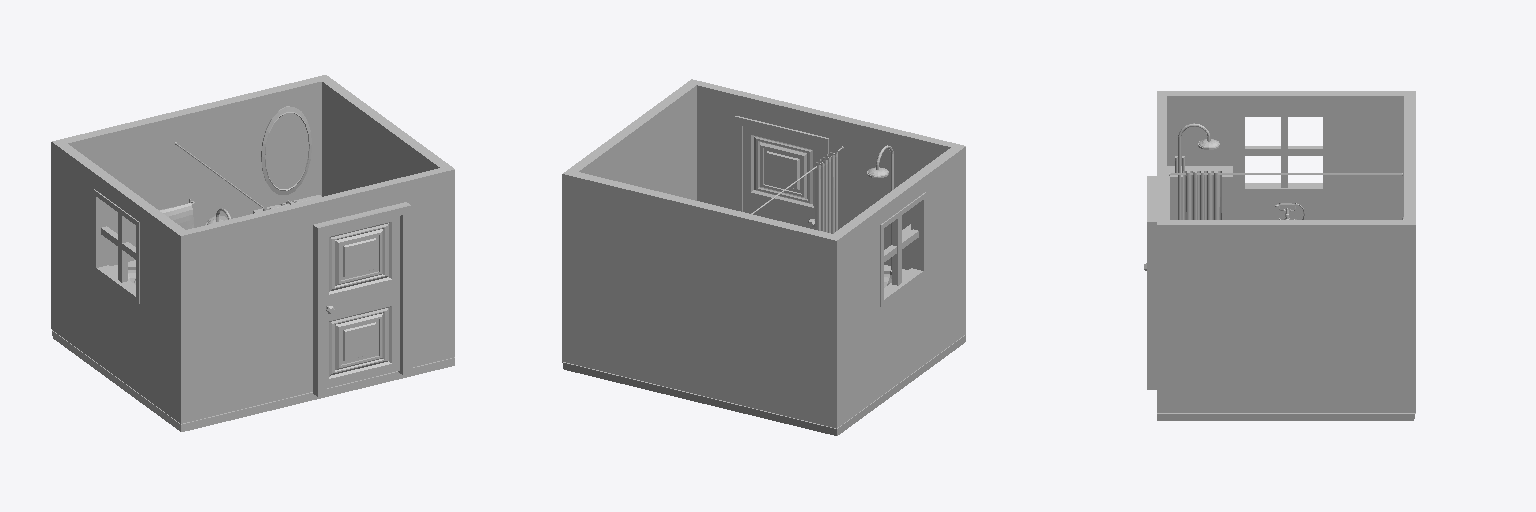
Rendered from Banheiro_J2_Completo.obj.
3 views of the same model, side by side, from view 1: azimuth 30°, elevation 25°; view 2: azimuth 150°, elevation 25°; view 3: azimuth 270°, elevation 25° (orthographic).
Parts seen in each view (by area): view 1: pasted__Parede group4 parede_banheiro, porta_banheiro pCube84, pCube246 porta_banheiro, espelho, chao_banheiro pasted__Parede group4, janela_banheiro pCube35, janela_banheiro pCube42, pPlane7 toalha; view 2: pasted__Parede group4 parede_banheiro, porta_banheiro pCube84, chao_banheiro pasted__Parede group4, janela_banheiro pCube35, pCube227 cortina, pCube246 porta_banheiro, janela_banheiro pCube42; view 3: pasted__Parede group4 parede_banheiro, pCube246 porta_banheiro, janela_banheiro pCube35, chao_banheiro pasted__Parede group4, pCube227 cortina, pCube41 janela_banheiro, chuveiro.
Boxes of the visible parts, box(x1,y1,x2,y2) form: pasted__Parede group4 parede_banheiro: box(51, 75, 454, 423); porta_banheiro pCube84: box(326, 216, 399, 387); pCube246 porta_banheiro: box(313, 202, 410, 396); espelho: box(261, 106, 311, 194); chao_banheiro pasted__Parede group4: box(52, 330, 454, 431); janela_banheiro pCube35: box(94, 189, 139, 303); janela_banheiro pCube42: box(118, 213, 127, 282); pPlane7 toalha: box(159, 203, 193, 229); pasted__Parede group4 parede_banheiro: box(562, 79, 965, 428); porta_banheiro pCube84: box(743, 126, 819, 229); chao_banheiro pasted__Parede group4: box(562, 335, 965, 435); janela_banheiro pCube35: box(880, 192, 925, 306); pCube227 cortina: box(815, 150, 837, 233); pCube246 porta_banheiro: box(734, 116, 828, 211); janela_banheiro pCube42: box(892, 216, 901, 285); pasted__Parede group4 parede_banheiro: box(1157, 91, 1415, 412); pCube246 porta_banheiro: box(1147, 176, 1169, 389); janela_banheiro pCube35: box(1239, 112, 1328, 193); chao_banheiro pasted__Parede group4: box(1157, 413, 1415, 420); pCube227 cortina: box(1183, 171, 1221, 219); pCube41 janela_banheiro: box(1245, 146, 1322, 155); chuveiro: box(1178, 123, 1219, 219).
Bounding box in the file's own units: 354 × 241 × 302.